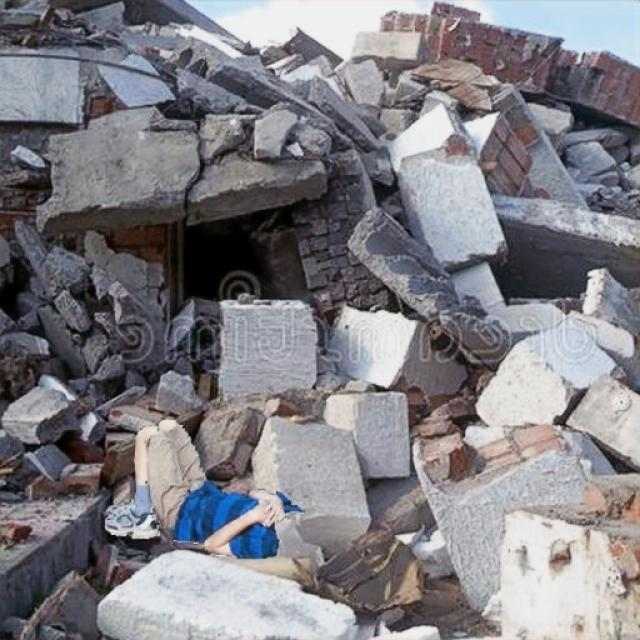Person in Rubble: (105, 420, 304, 558)
